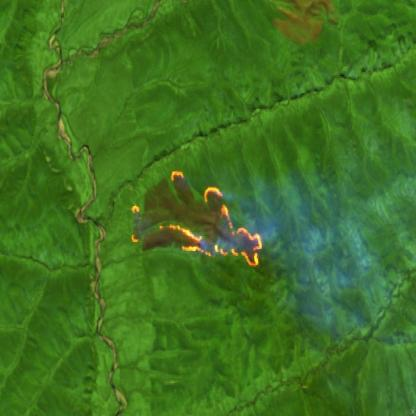fire: (129, 168, 263, 271)
